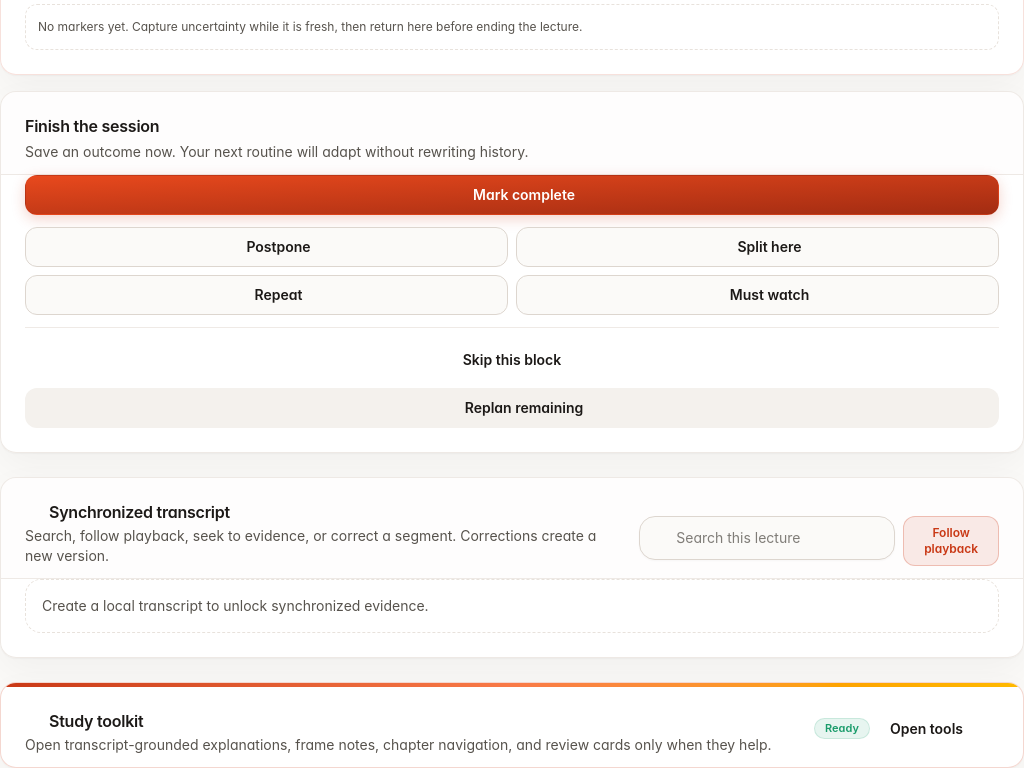
Test: PlayerRoute › generates lecture understanding and refreshes cited content
(page scrolled)
Click the button "Open tools": (938, 729) [878,711,999,747]
(page scrolled)
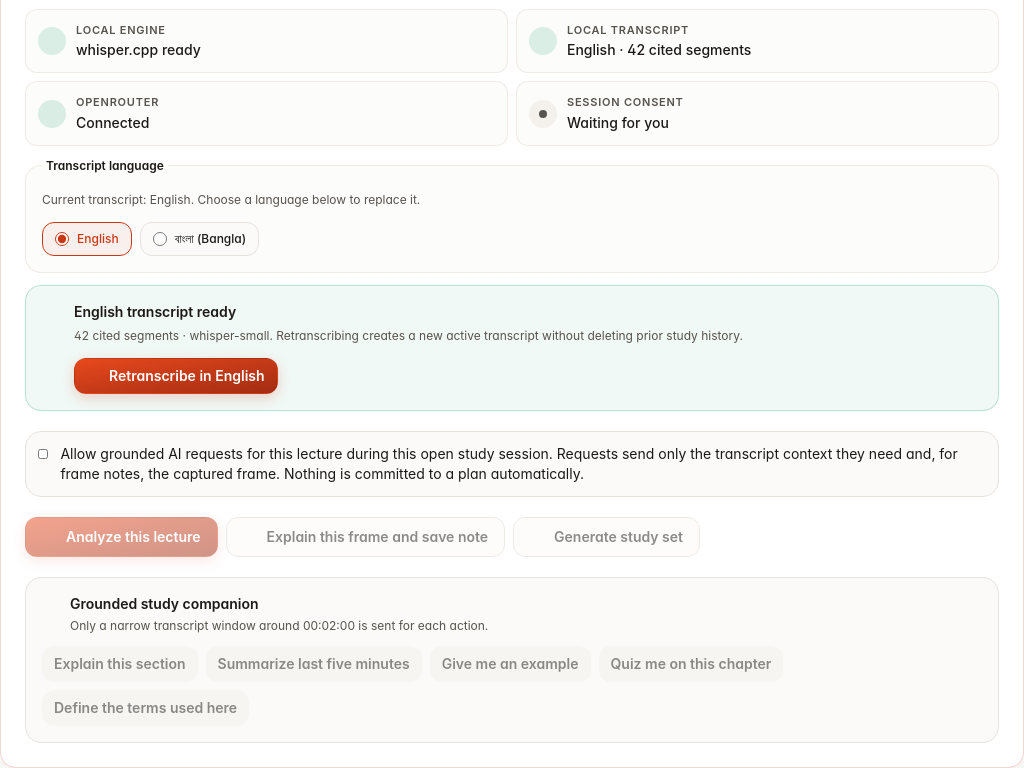
Now the checkbox is enabled
Click the checkbox: (43, 454) [38,446,48,462]
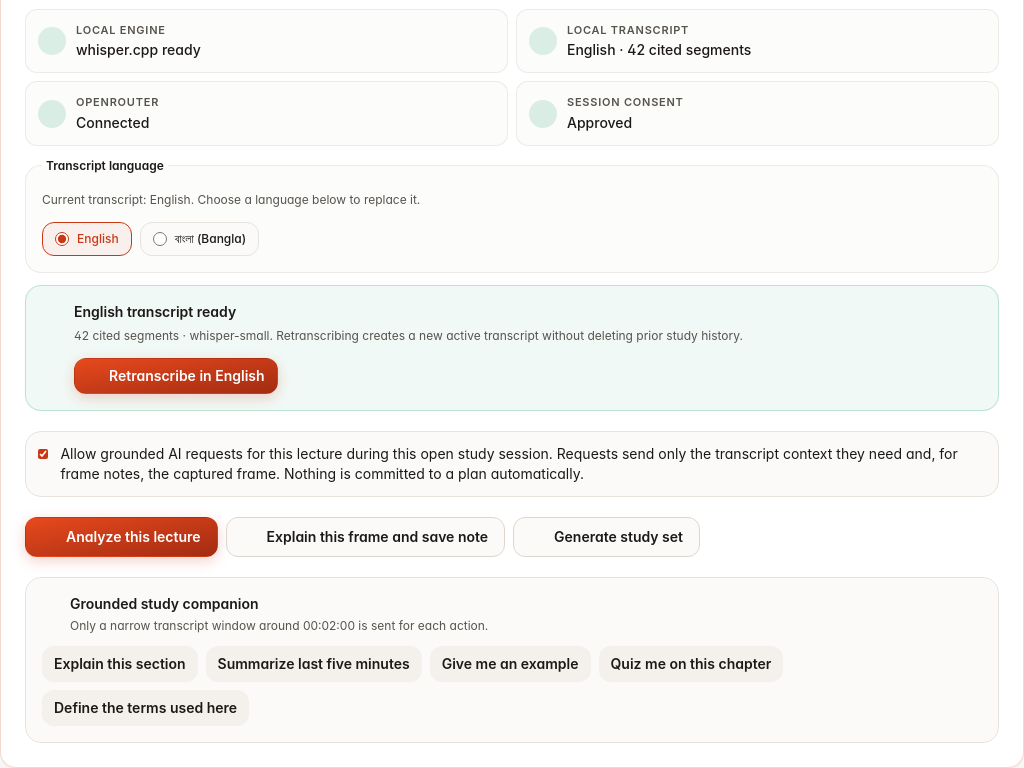
Click the button "Analyze this lecture": (121, 537) [25,517,218,557]
(page scrolled)
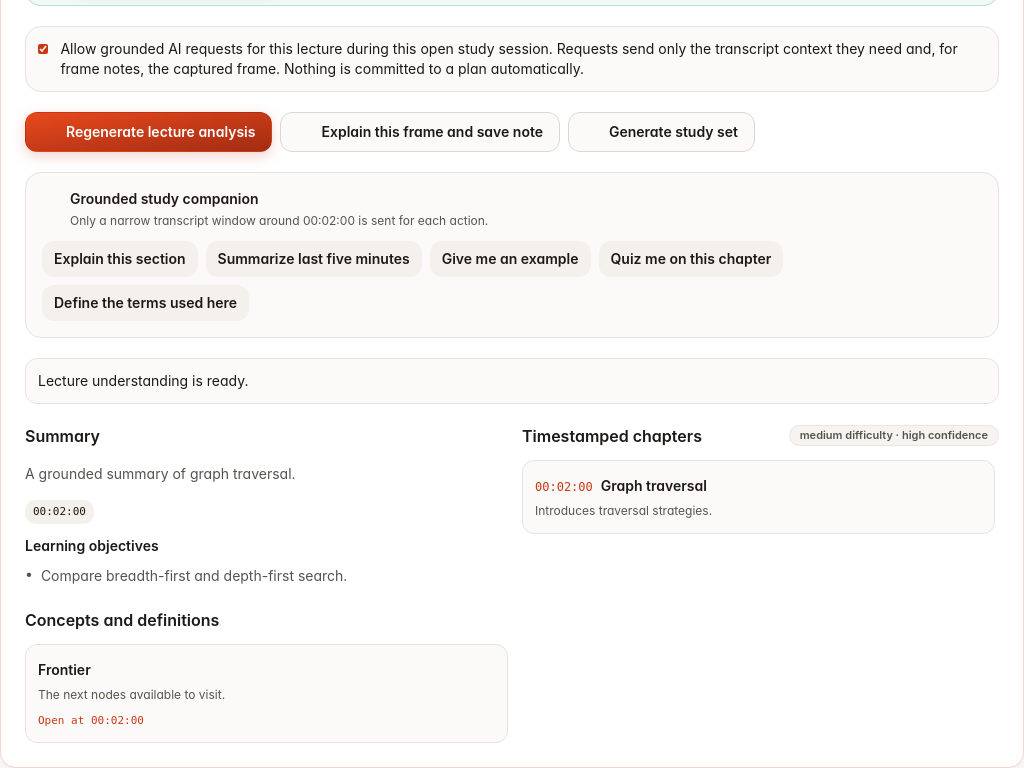
Now the text "A grounded summary of graph traversal." is shown, box [25,465,296,482]
